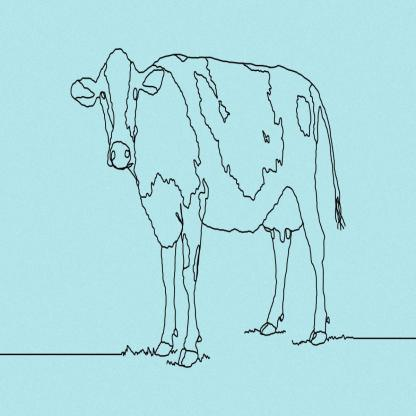cow: (72, 50, 327, 367)
